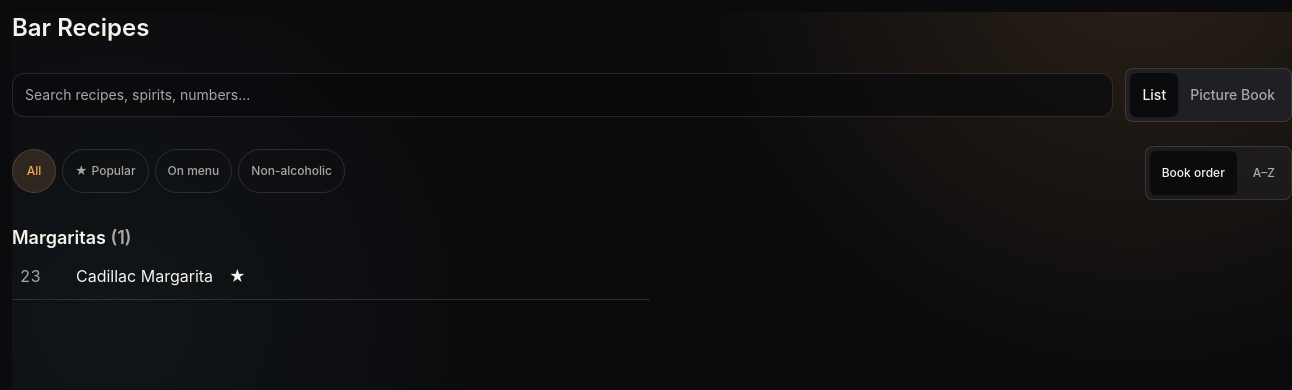
Test case: Recipes browsing: view toggle, filters, and sort › handles empty filter state and restores on Clear filters
Expected: the text "Cadillac Margarita" is shown, [76, 264, 213, 288]
Click the button "Non-alcoholic": click(292, 171) [238, 149, 345, 193]
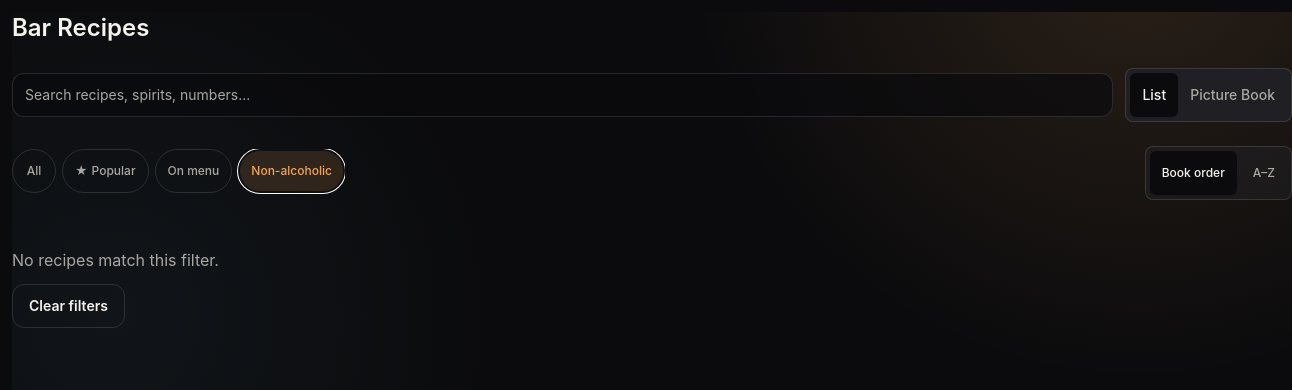
Now the text "No recipes match this filter." is shown, box [12, 248, 219, 272]
Click the button "Clear filters": click(68, 306) [12, 284, 125, 328]
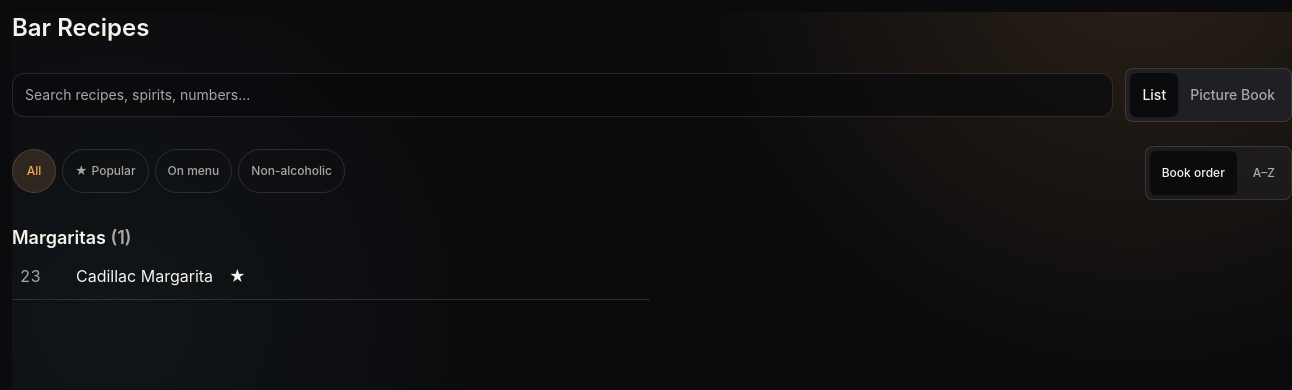
Now the text "Cadillac Margarita" is shown, box [76, 264, 213, 288]
